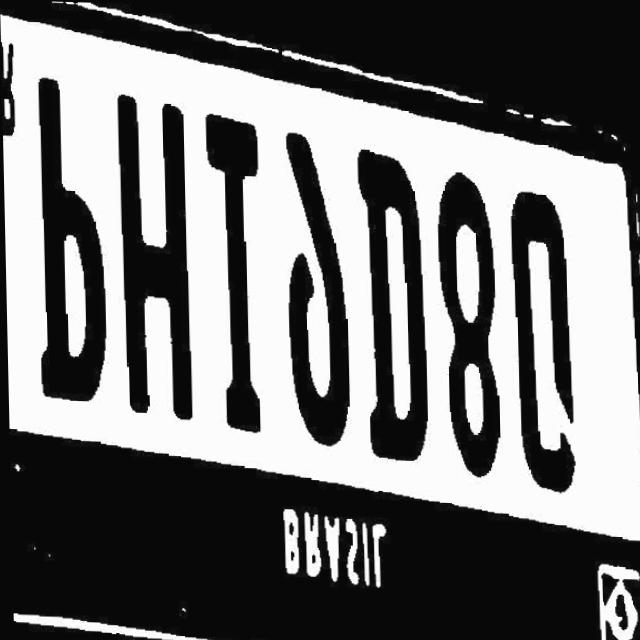0: (506, 186, 583, 493)
8: (424, 169, 510, 482)
9: (268, 132, 349, 459)
d: (350, 150, 431, 468)
h: (110, 91, 196, 437)
i: (191, 114, 267, 450)
p: (25, 83, 102, 433)
